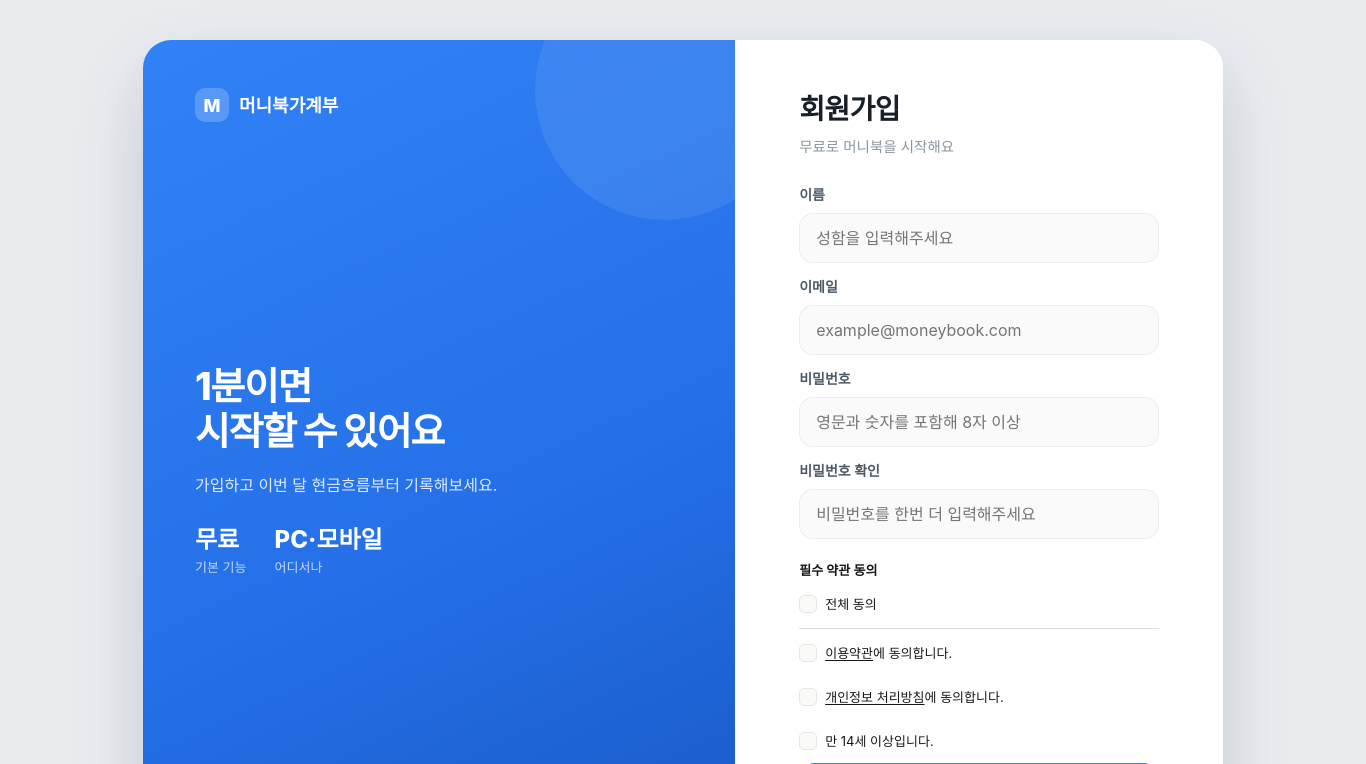
SignupPage legal consent validation › checks every required consent when 전체 동의 is selected
Click the checkbox labelled "전체 동의". click: [838, 604]
box: [799, 595, 877, 613]
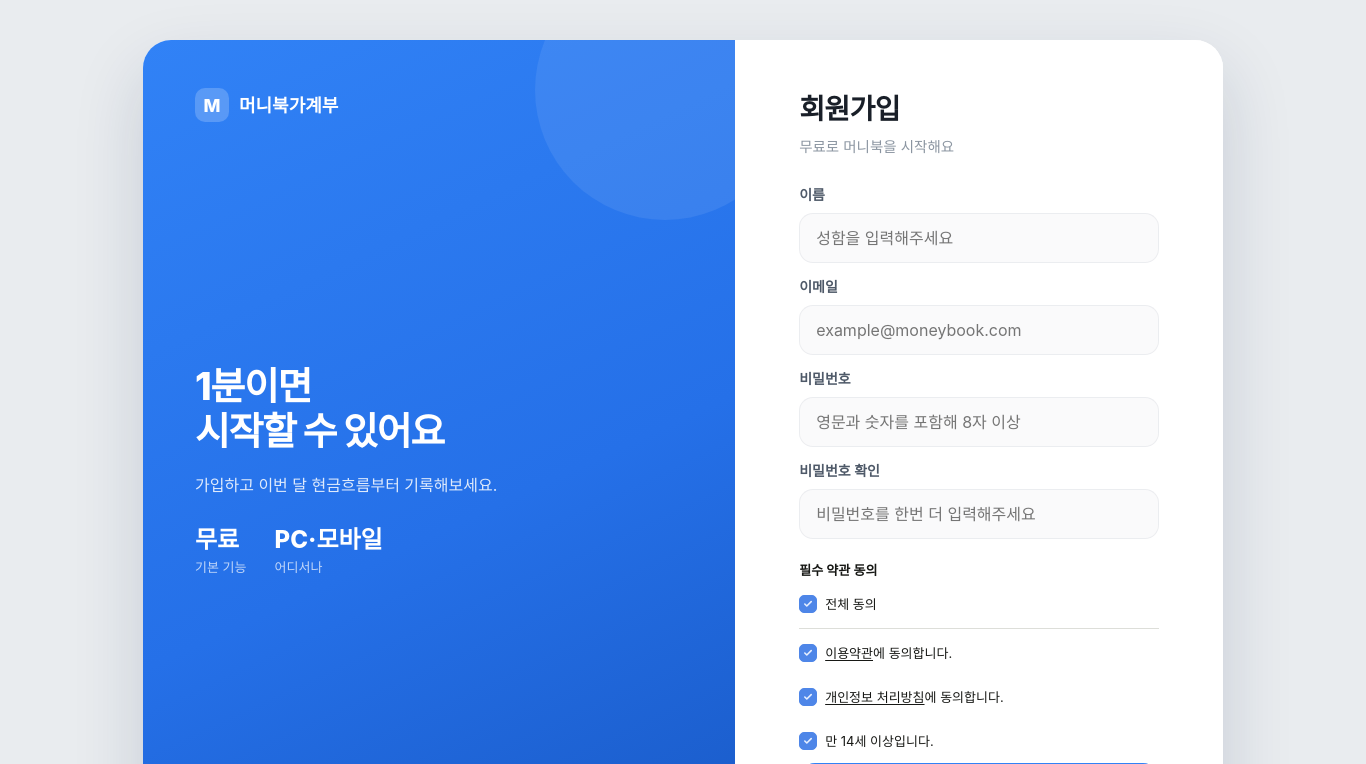
Check: the checkbox labelled "이용약관 에 동의합니다." is checked, box [799, 644, 952, 662]
Check: the checkbox labelled "개인정보 처리방침 에 동의합니다." is checked, box [799, 688, 1004, 706]
Check: the checkbox labelled "만 14세 이상입니다." is checked, box [799, 732, 934, 750]
